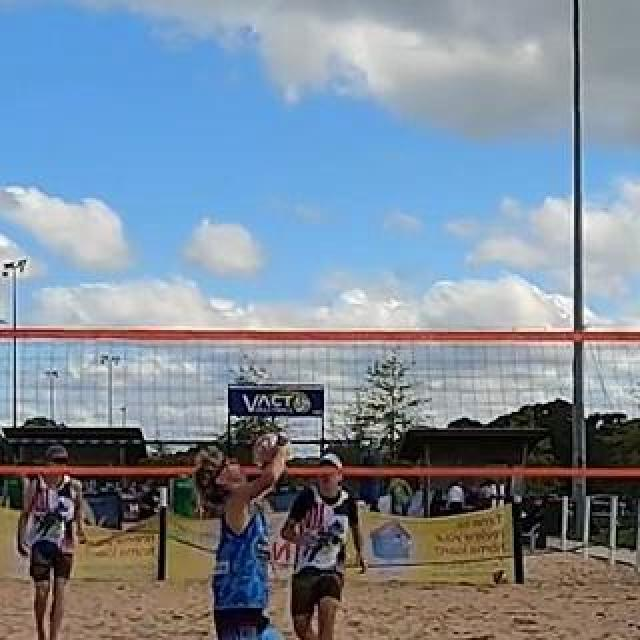volleyball: (254, 432, 292, 470), (492, 569, 508, 585)
